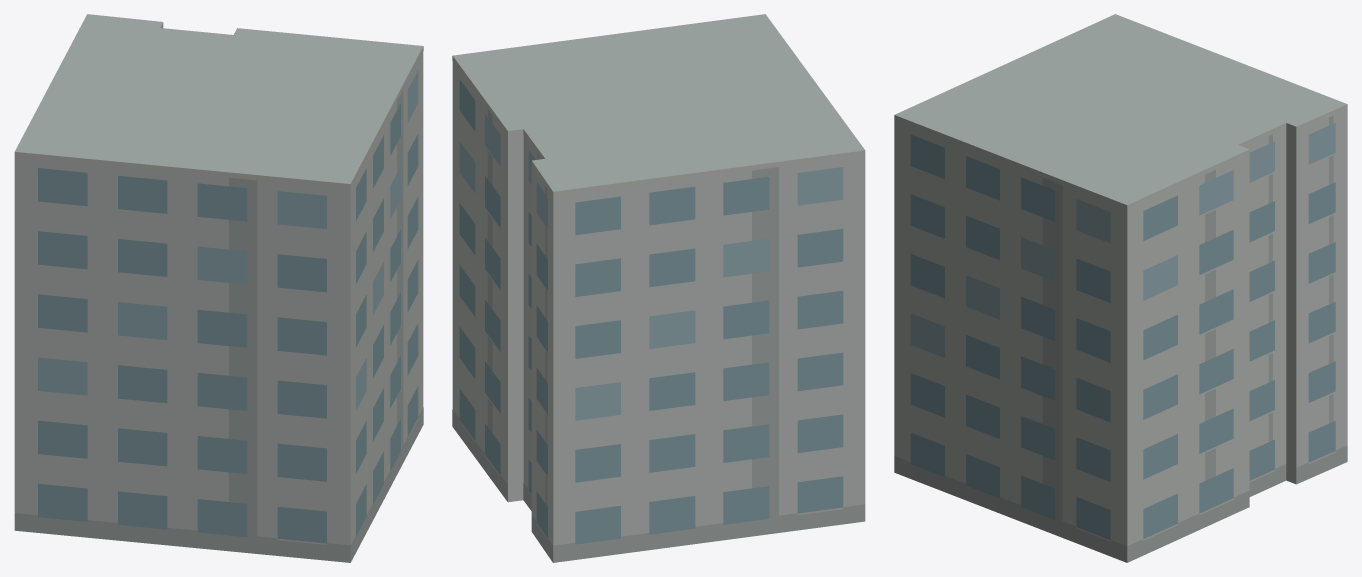
Rendered from survey-upis-32943861.glb.
The picture shows the model from 3 angles, left to right: view 1: azimuth 30°, elevation 25°; view 2: azimuth 150°, elevation 25°; view 3: azimuth 270°, elevation 25°; orthographic projection. The views are drawn at different scales.
Parts seen in each view (by area): view 1: survey-upis-32943861.tmp; view 2: survey-upis-32943861.tmp; view 3: survey-upis-32943861.tmp.
Boxes of the visible parts, left/top/right/bottom form: survey-upis-32943861.tmp: left=14, top=14, right=423, bottom=562; survey-upis-32943861.tmp: left=452, top=14, right=865, bottom=562; survey-upis-32943861.tmp: left=894, top=14, right=1347, bottom=562.
Size of the model in its own units: 19.84 by 17.3 by 19.88.
